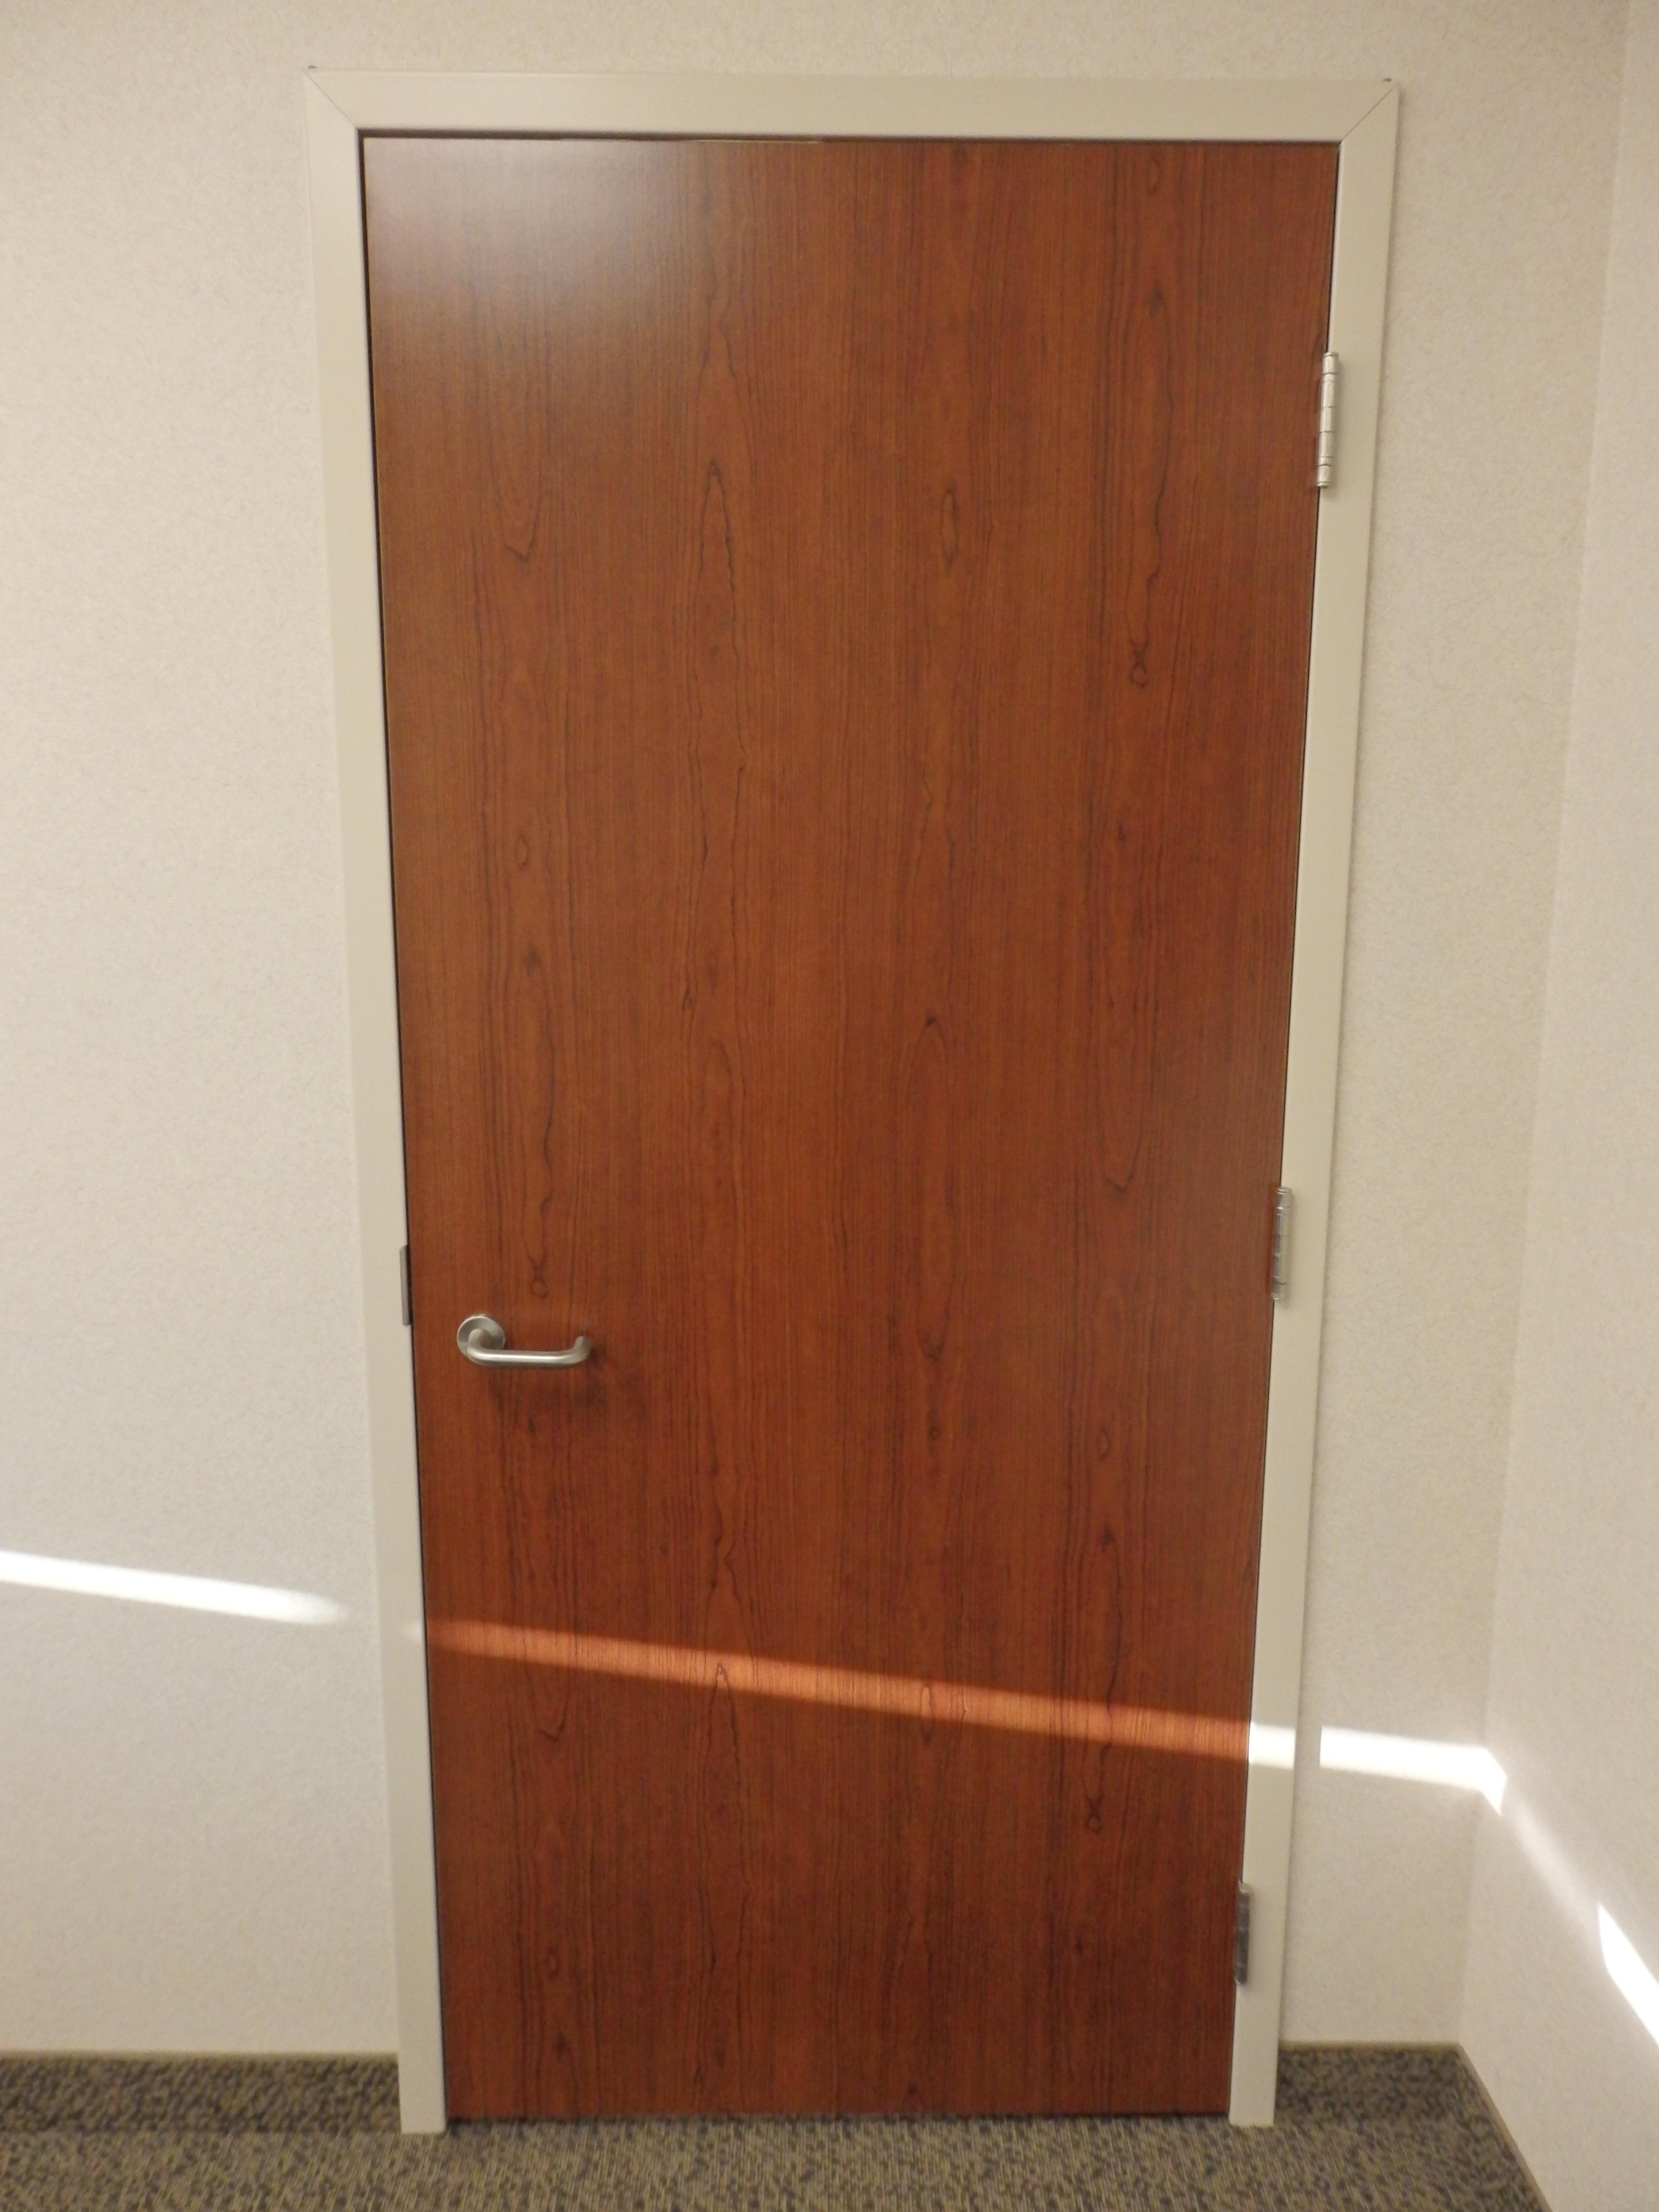door: (396, 120, 1351, 2120)
